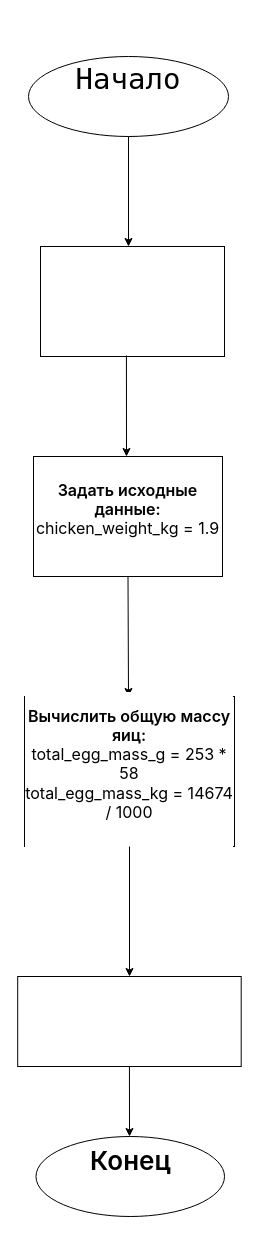
Image size: 259x1256. Some labels were removed from this diagram. The centre of each missing label's shape, as x and y in pixels:
Вычислить отношение: ratio = 14.67 / 1.9: (129,1021)
Объявить константы: EGGS_PER_YEAR = 253 EGG_WEIGHT_G = 58 GRAMS_IN_KG = 1000: (132,301)
